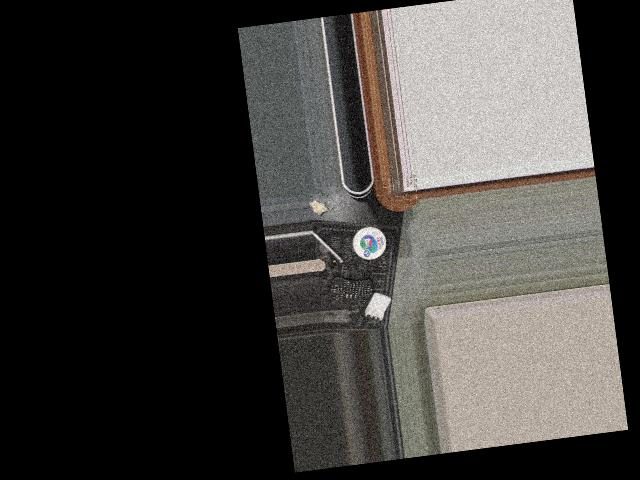cotage: (350, 222, 394, 263)
